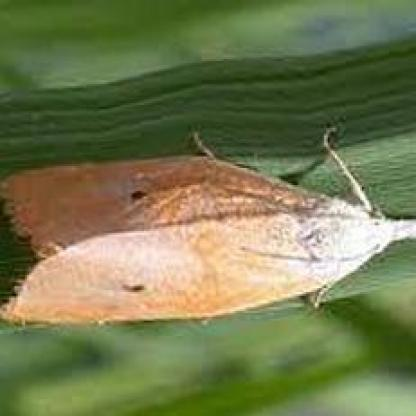stem-borer: (0, 126, 416, 327)
